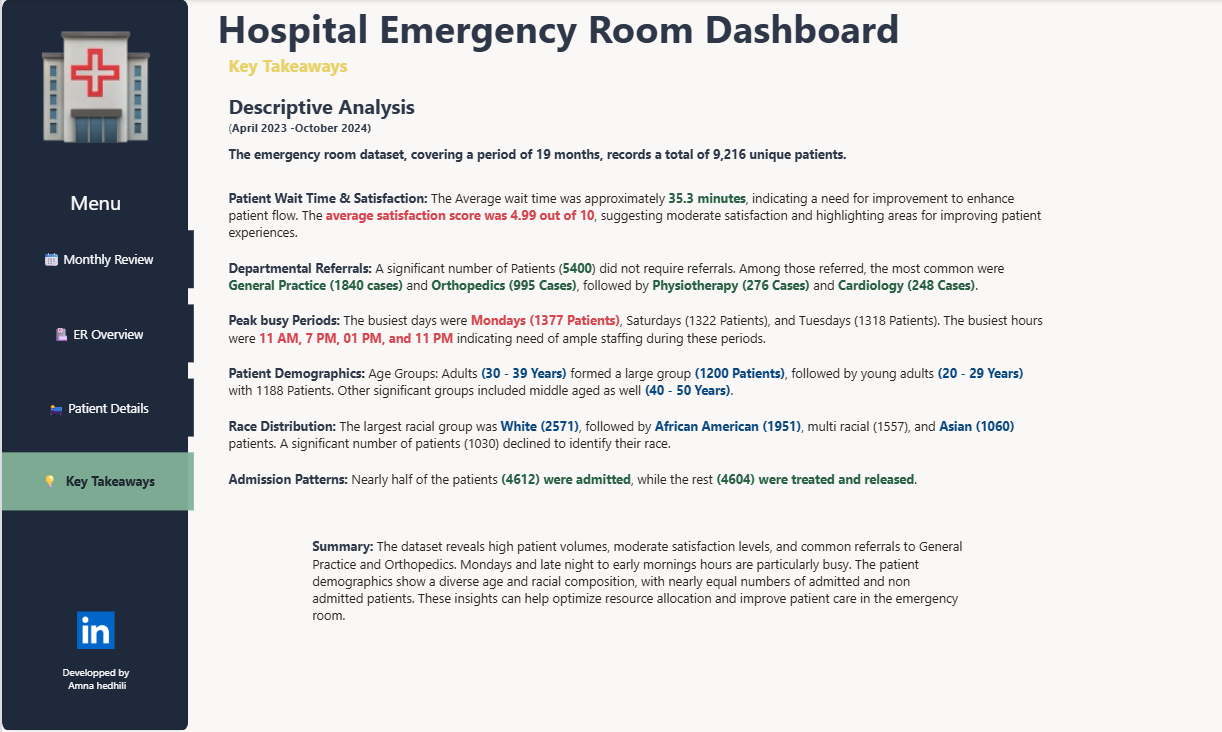

Layout of this report page (visuals, bound fields, positions):
{"tool":"powerbi","page":{"name":"💡  Key Takeaways","canvas":[2300,1400],"ordinal":3},"visuals":[{"type":"shape","box":[0,0,349.5,1374.7],"z":0},{"type":"textbox","box":[367.5,0,1352.5,115],"z":1000},{"type":"textbox","box":[418.8,97.5,352.5,73.8],"z":2000},{"type":"image","box":[25.8,58.6,300.3,211.1],"z":3000},{"type":"pageNavigator","box":[0,434,360,527.8],"z":4000},{"type":"textbox","box":[0,351.9,351.9,126.7],"z":5000},{"type":"textbox","box":[419.9,171.2,1233.9,110.3],"z":6000},{"type":"textbox","box":[419.9,269.8,1233.9,110.3],"z":7000},{"type":"textbox","box":[419.9,351.9,1548.3,640.4],"z":8000},{"type":"textbox","box":[576,1006,1234,208],"z":9000},{"type":"image","box":[100.9,1149.5,150.1,70.4],"z":10000},{"type":"textbox","box":[25.8,1245.6,300.3,70.4],"z":11000}]}

Visuals, with their boxes on the page's 2300x1400 design canvas (x1, y1, x2, y2). These are canvas units, not pixel positions in the 1222x732 screenshot, which may show the page scaled, cropped or inside an application window:
shape: [left=0, top=0, right=350, bottom=1375]
textbox: [left=368, top=0, right=1720, bottom=115]
textbox: [left=419, top=98, right=771, bottom=171]
image: [left=26, top=59, right=326, bottom=270]
pageNavigator: [left=0, top=434, right=360, bottom=962]
textbox: [left=0, top=352, right=352, bottom=479]
textbox: [left=420, top=171, right=1654, bottom=282]
textbox: [left=420, top=270, right=1654, bottom=380]
textbox: [left=420, top=352, right=1968, bottom=992]
textbox: [left=576, top=1006, right=1810, bottom=1214]
image: [left=101, top=1150, right=251, bottom=1220]
textbox: [left=26, top=1246, right=326, bottom=1316]
